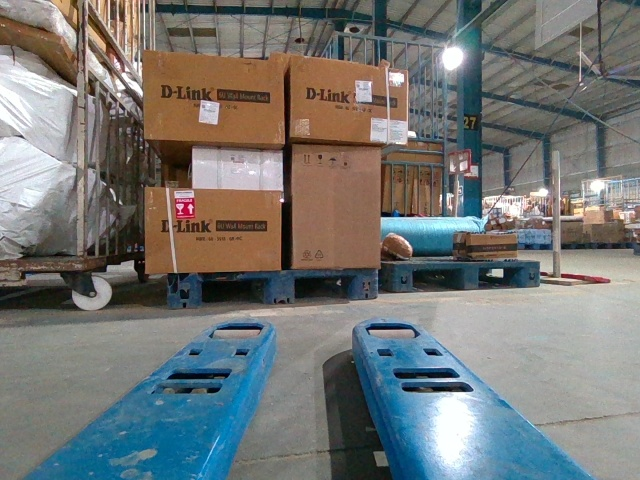block: (168, 271, 202, 311), (269, 266, 298, 306), (353, 267, 377, 300), (458, 261, 480, 289), (393, 264, 414, 292), (520, 260, 540, 287)
front: (169, 270, 378, 307), (390, 261, 537, 292)
hole pallet: (197, 273, 271, 305), (289, 270, 357, 301), (478, 263, 525, 289), (407, 266, 465, 287)
